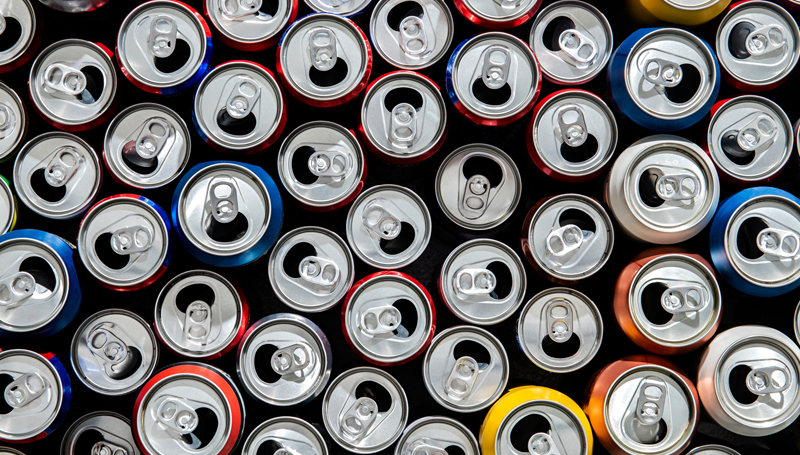can: (1, 2, 800, 455)
